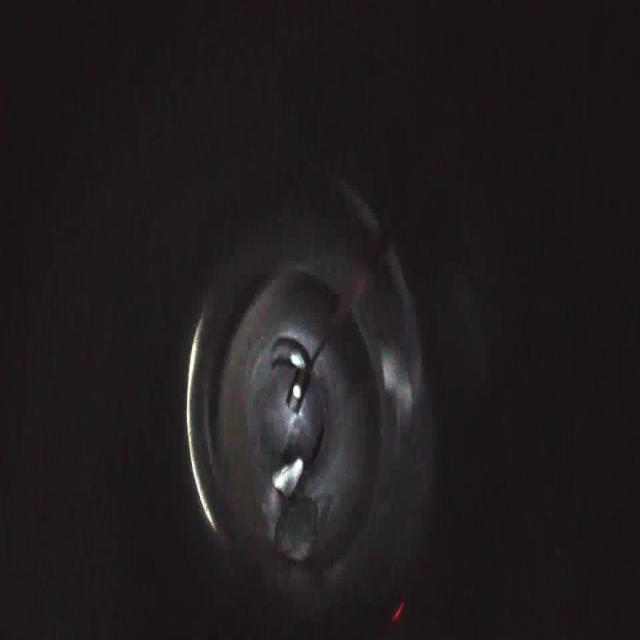impurity: (273, 496, 320, 566), (268, 454, 306, 498)
